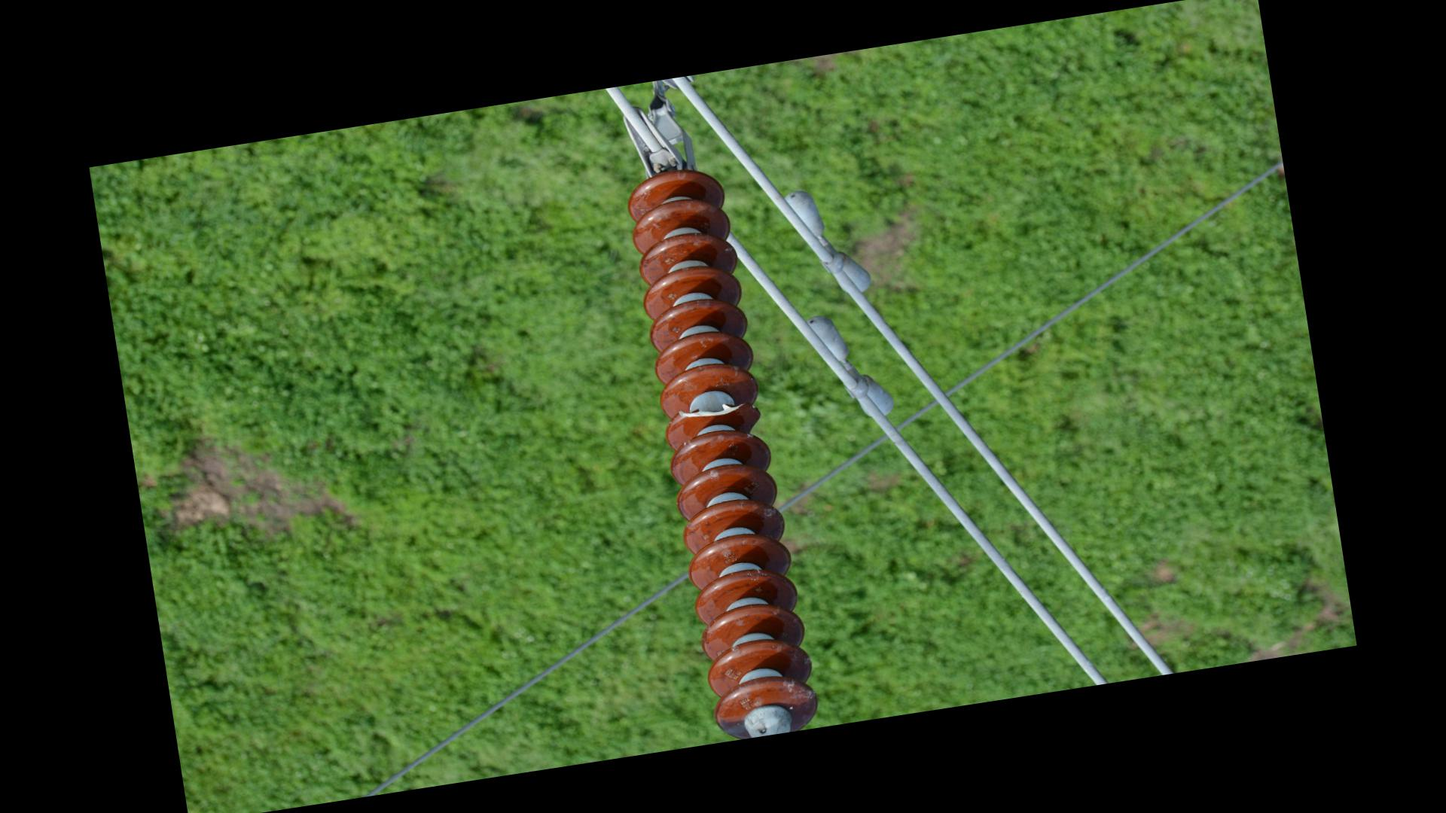damper: (800, 302, 900, 433), (779, 178, 876, 306)
